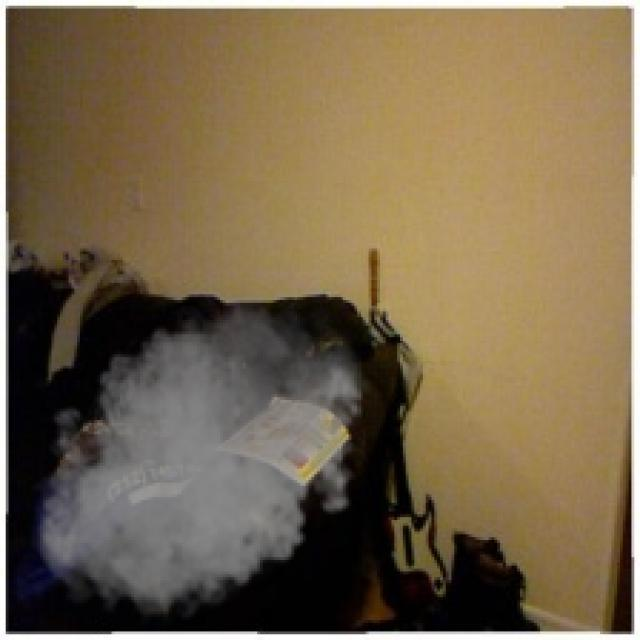Smoke: (32, 283, 374, 626)
